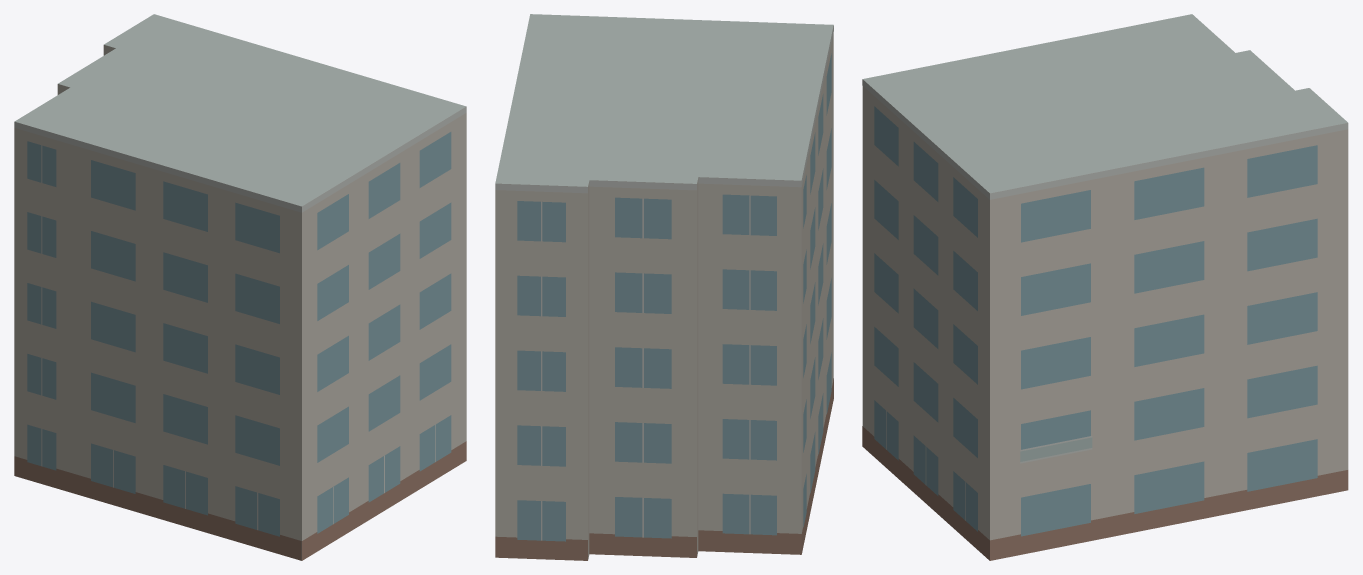
The model's file is survey-upis-33037378.glb.
3 renders of one model, left to right at view 1: azimuth 30°, elevation 25°; view 2: azimuth 150°, elevation 25°; view 3: azimuth 270°, elevation 25°, orthographic. The views are drawn at different scales.
Parts seen in each view (by area): view 1: survey-upis-33037378.tmp; view 2: survey-upis-33037378.tmp; view 3: survey-upis-33037378.tmp.
Part boxes in pixels (<box>): survey-upis-33037378.tmp: <box>14,14,466,560</box>; survey-upis-33037378.tmp: <box>495,14,833,560</box>; survey-upis-33037378.tmp: <box>862,14,1348,560</box>.
Bounding box in the file's own units: 14.62 × 13.95 × 16.73.
